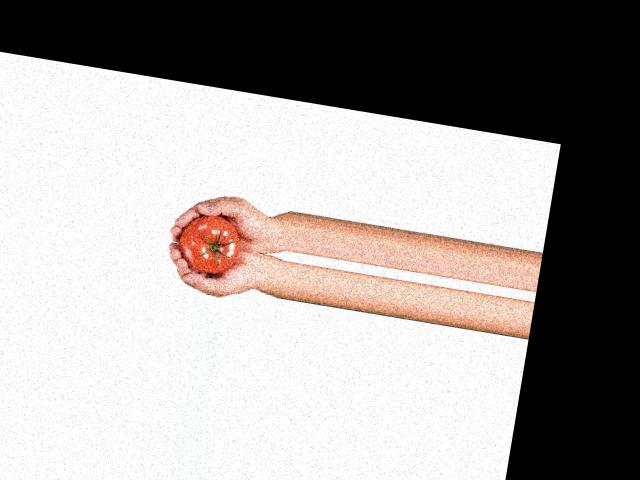tomato: (176, 210, 243, 277)
